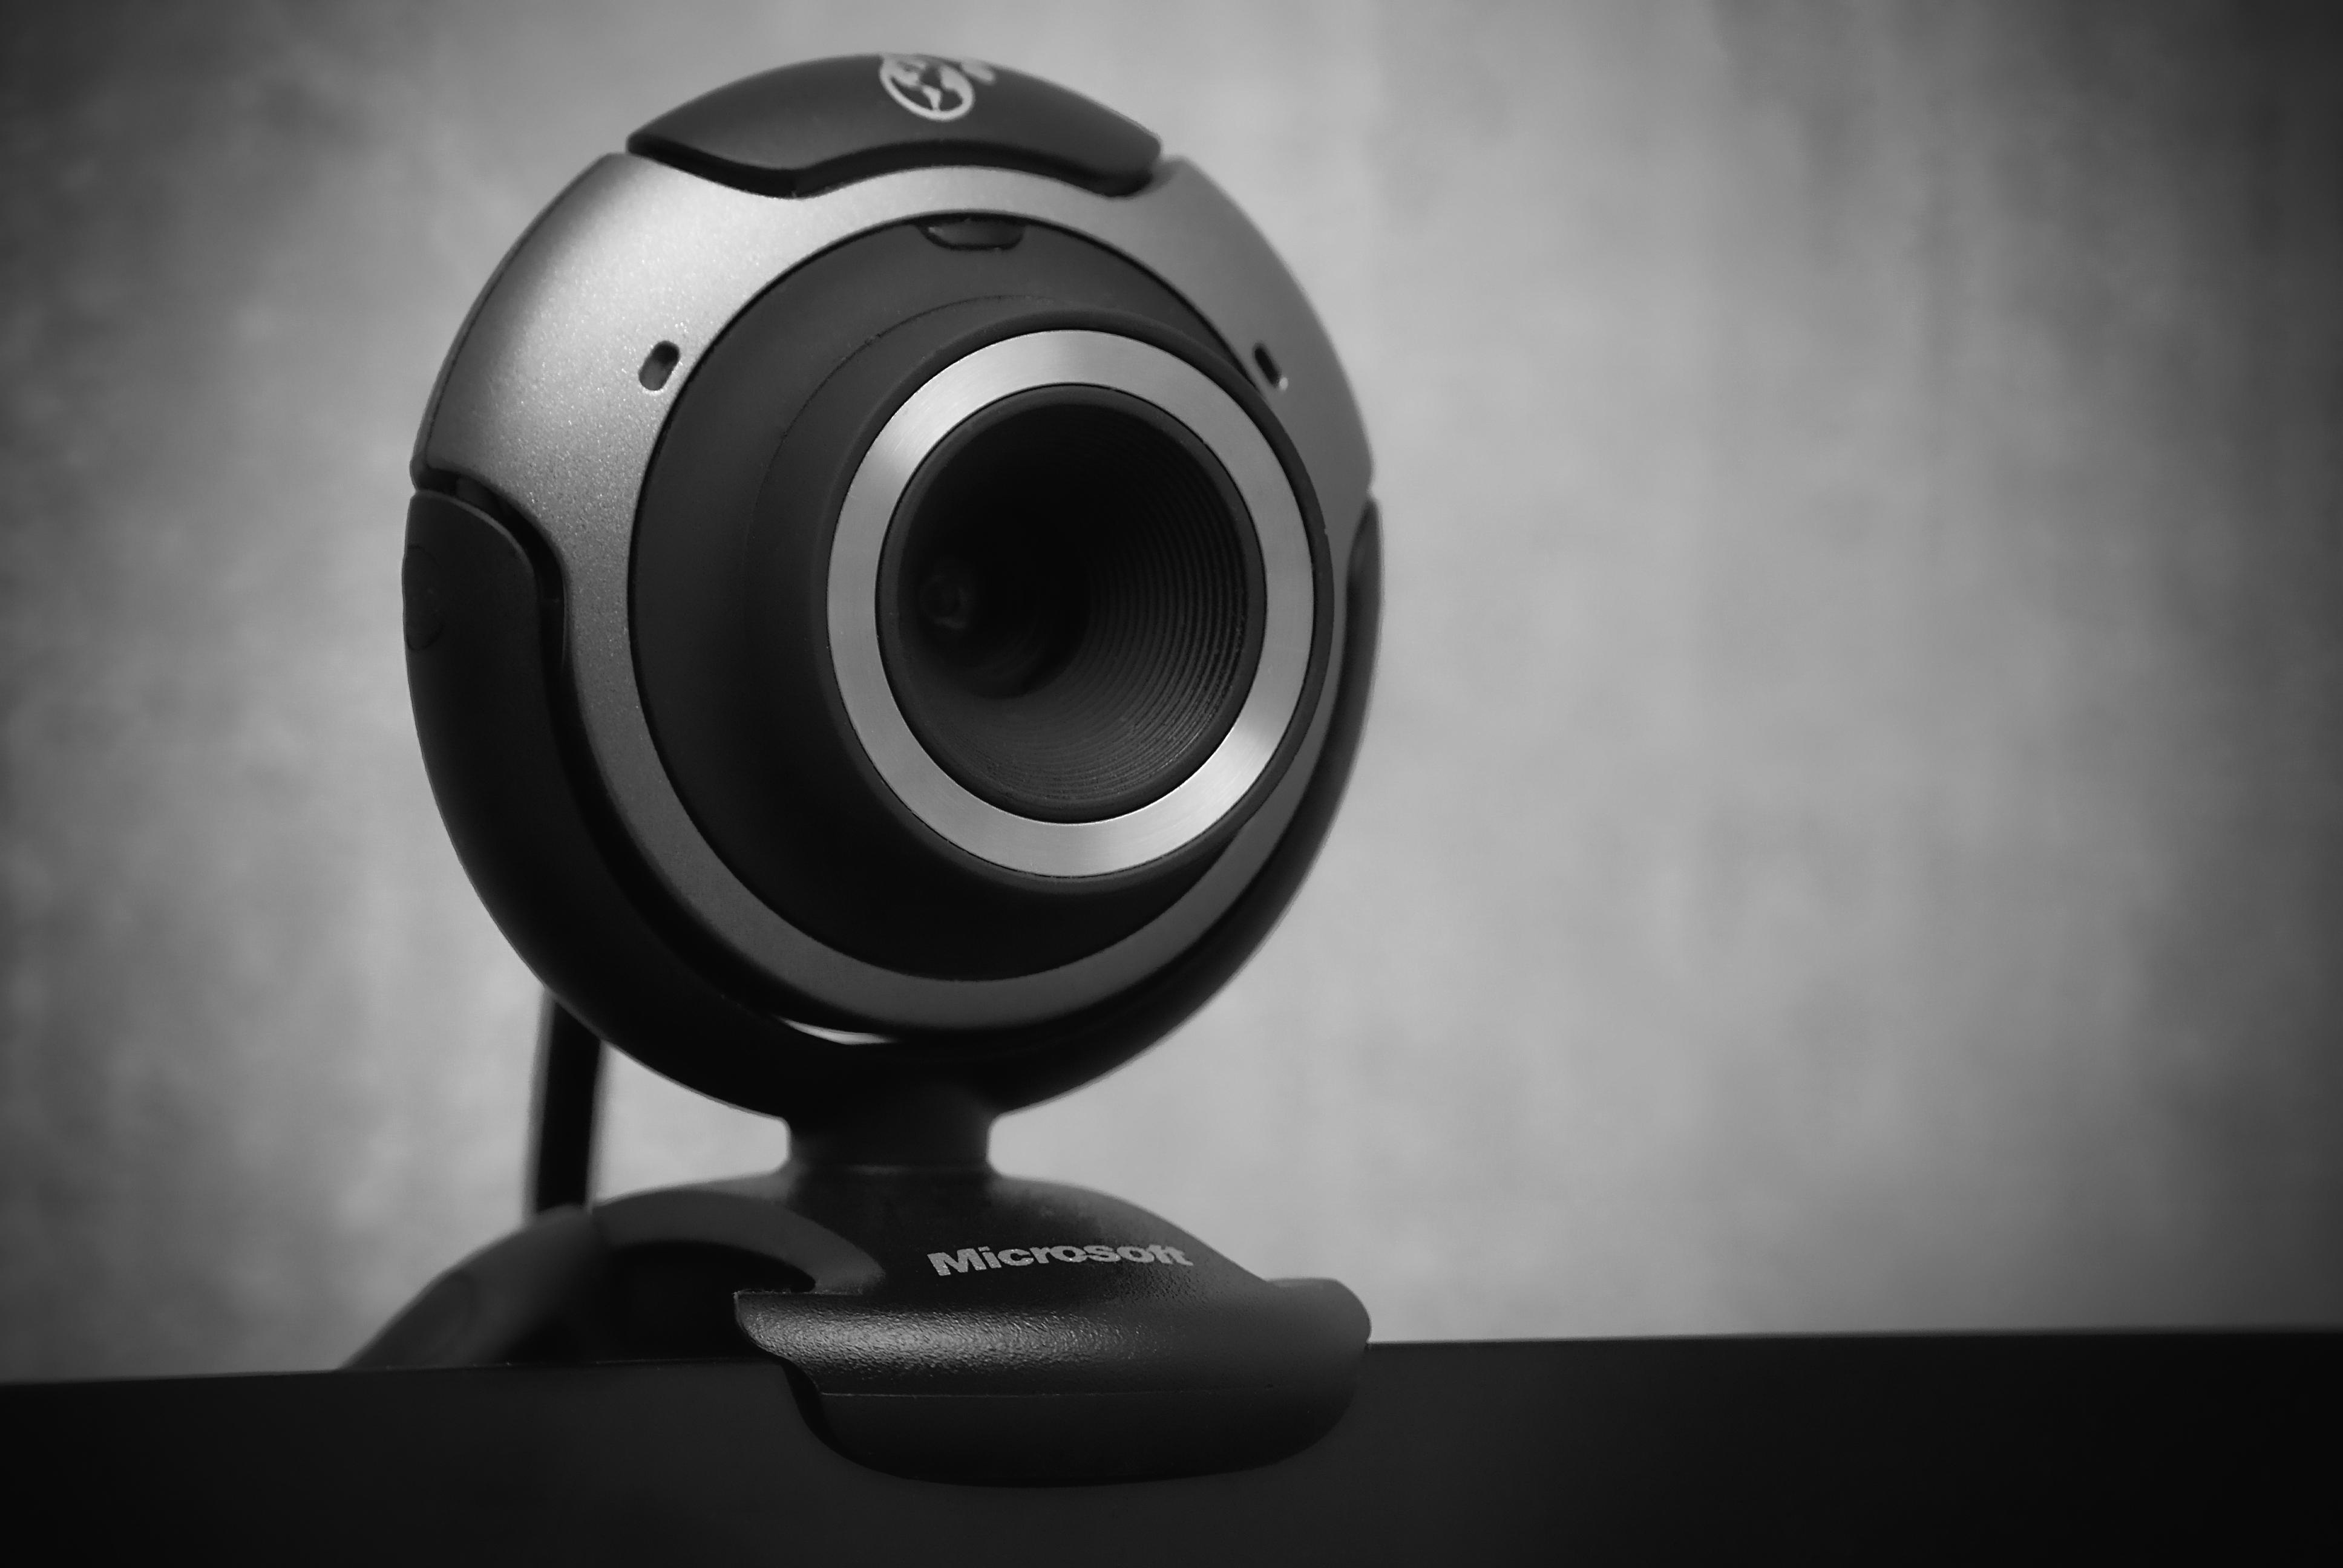webcam: (387, 40, 1417, 1496)
